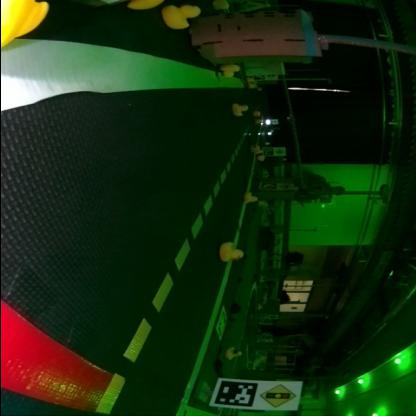Duckie: (162, 4, 200, 28), (220, 241, 242, 261), (232, 102, 248, 116), (221, 65, 240, 76), (225, 347, 241, 358), (244, 192, 258, 202), (214, 0, 229, 9), (252, 144, 260, 152), (252, 110, 260, 116), (258, 154, 265, 160)
Duckiebot: (263, 119, 271, 125), (265, 130, 273, 134)
Intersection sign: (278, 184, 292, 190), (274, 147, 284, 154)
QR code: (213, 378, 254, 406), (217, 306, 227, 340), (261, 181, 275, 189), (262, 147, 274, 155)
Signal sign: (260, 382, 298, 407)
